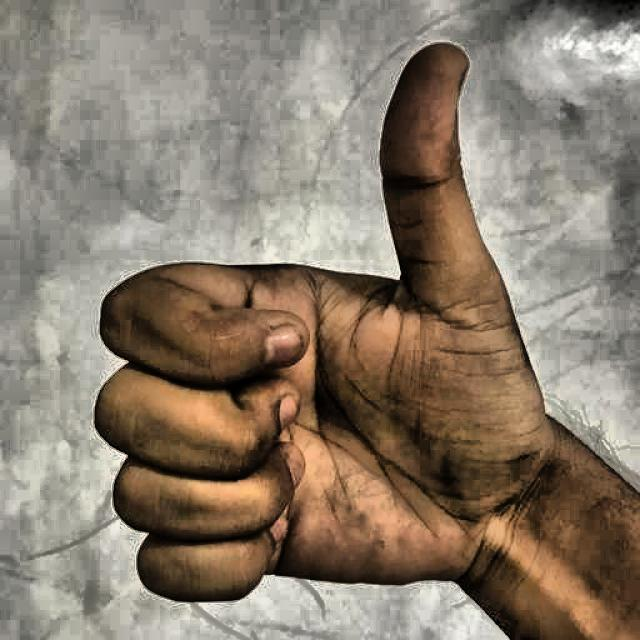Do: (67, 24, 553, 610)
